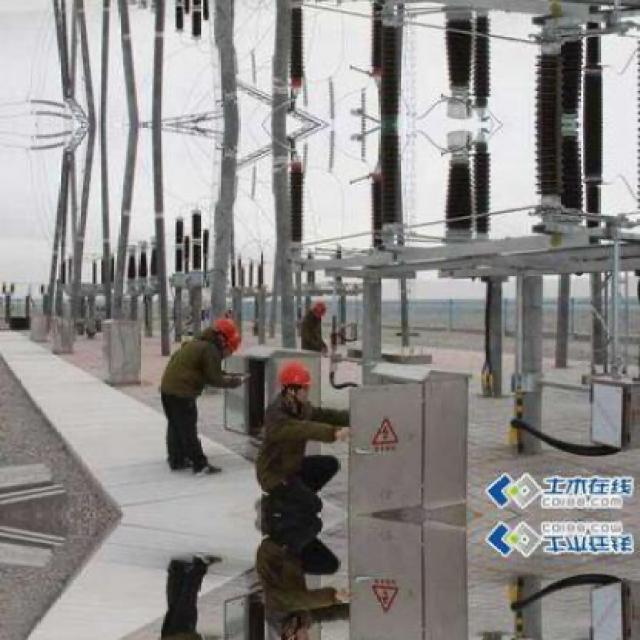helmet: (278, 359, 314, 404), (206, 318, 243, 356), (277, 626, 314, 639), (309, 299, 325, 318)
